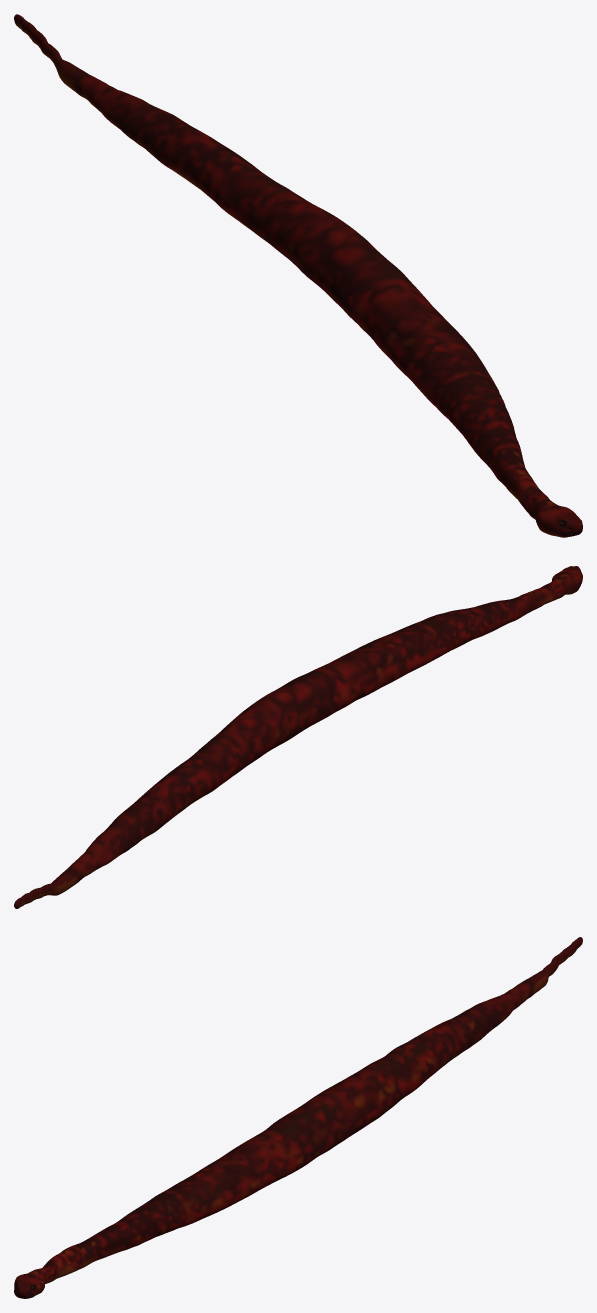
Rendered from snake.fbx.
The picture shows the model from 3 angles, top to bottom: view 1: azimuth 30°, elevation 25°; view 2: azimuth 150°, elevation 25°; view 3: azimuth 330°, elevation 25°; orthographic projection. The views are drawn at different scales.
Visible parts, largest first — view 1: Snake; view 2: Snake; view 3: Snake.
Boxes of the visible parts, x1,y1,x2,y2 form: Snake: (14,14,582,537); Snake: (14,566,582,908); Snake: (14,937,582,1298).
Size of the model in its own units: 525 by 223 by 4285.
